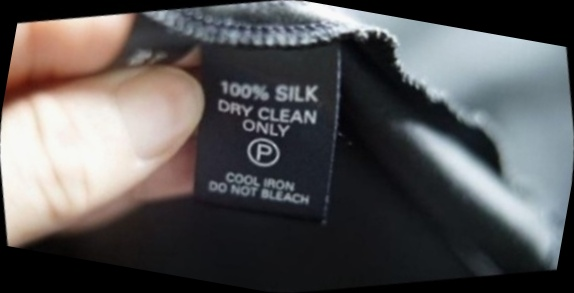dry_clean_any_solvent_except_trichloroethylene: (237, 125, 292, 178)
